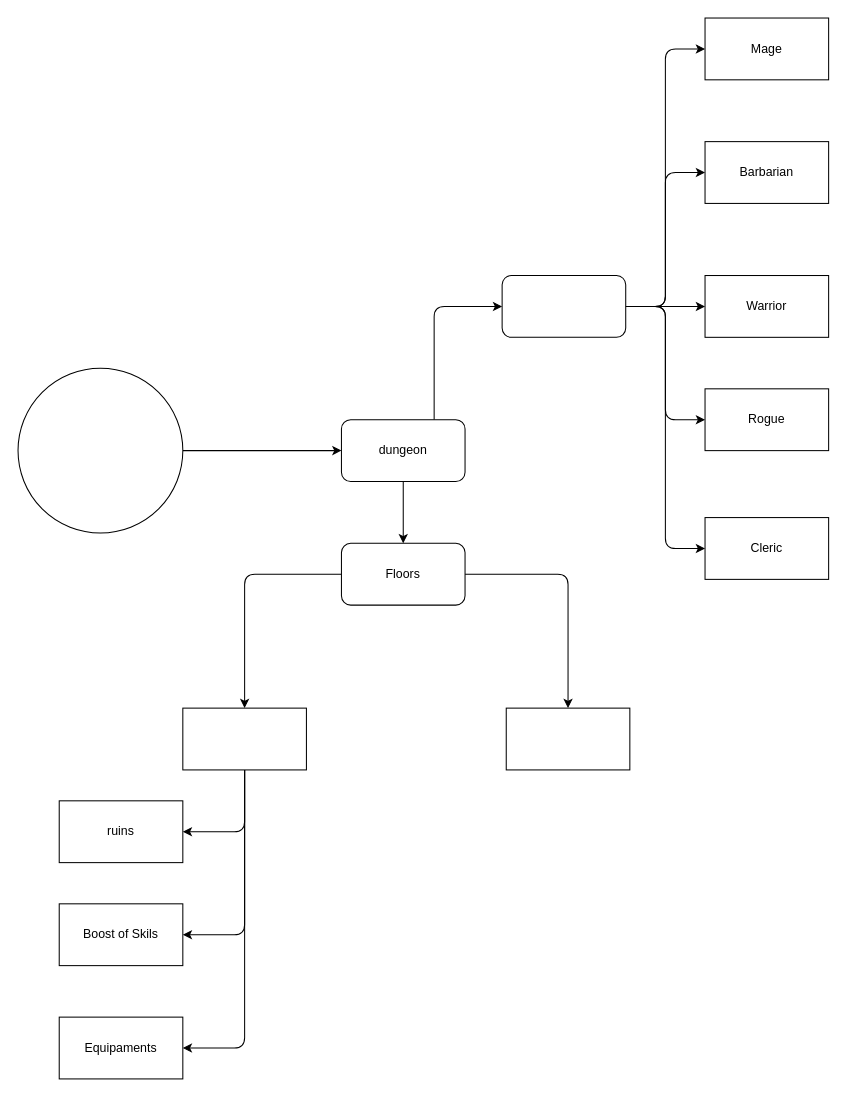
The diagram is 847 pixels wide and 1097 high, and some of its shapes have lost their labels. Each missing label, with the centre of its shape:
"? Floors" goes at point 567,738.
"Artefacts" goes at point 244,738.
"Class players" goes at point 563,305.
"Game" goes at point 100,450.
